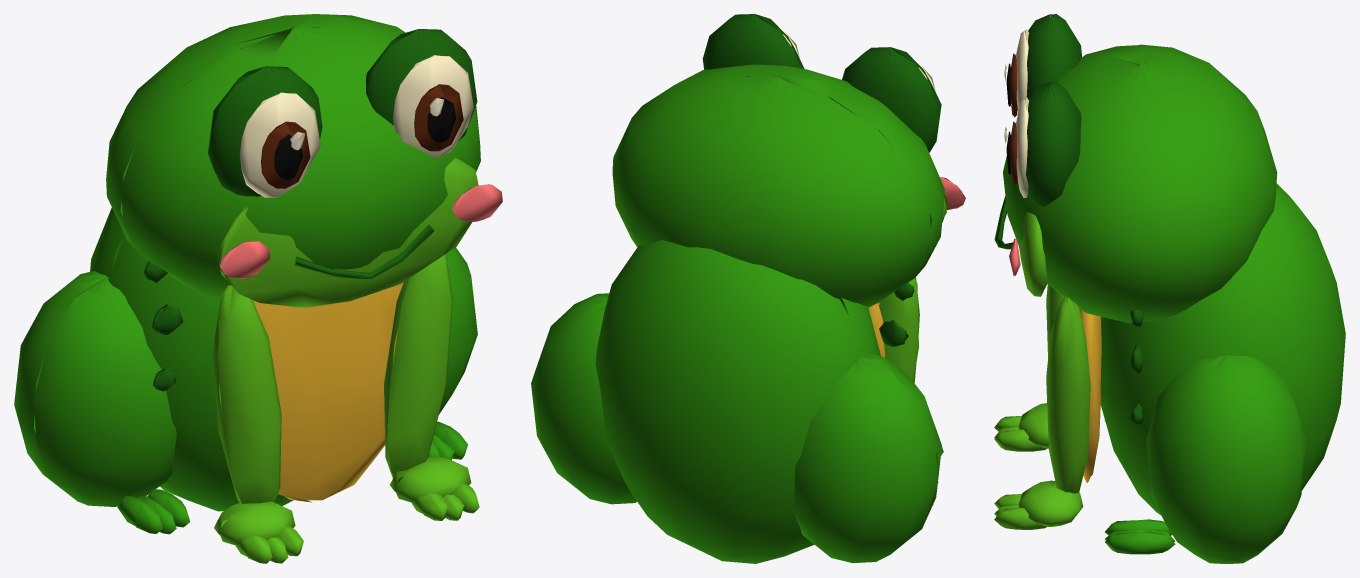
The model's file is frog.fbx.
3 views of the same model, side by side, from view 1: azimuth 30°, elevation 25°; view 2: azimuth 150°, elevation 25°; view 3: azimuth 270°, elevation 25° (orthographic). The views are drawn at different scales.
Visible parts, largest first — view 1: frog; view 2: frog; view 3: frog.
Boxes of the visible parts, box(x1,y1,x2,y2) form: frog: box(14, 14, 502, 563); frog: box(531, 14, 965, 563); frog: box(994, 14, 1345, 563).
Bounding box in the file's own units: 87.42 × 100 × 66.48.
1 material, 1 textured.
